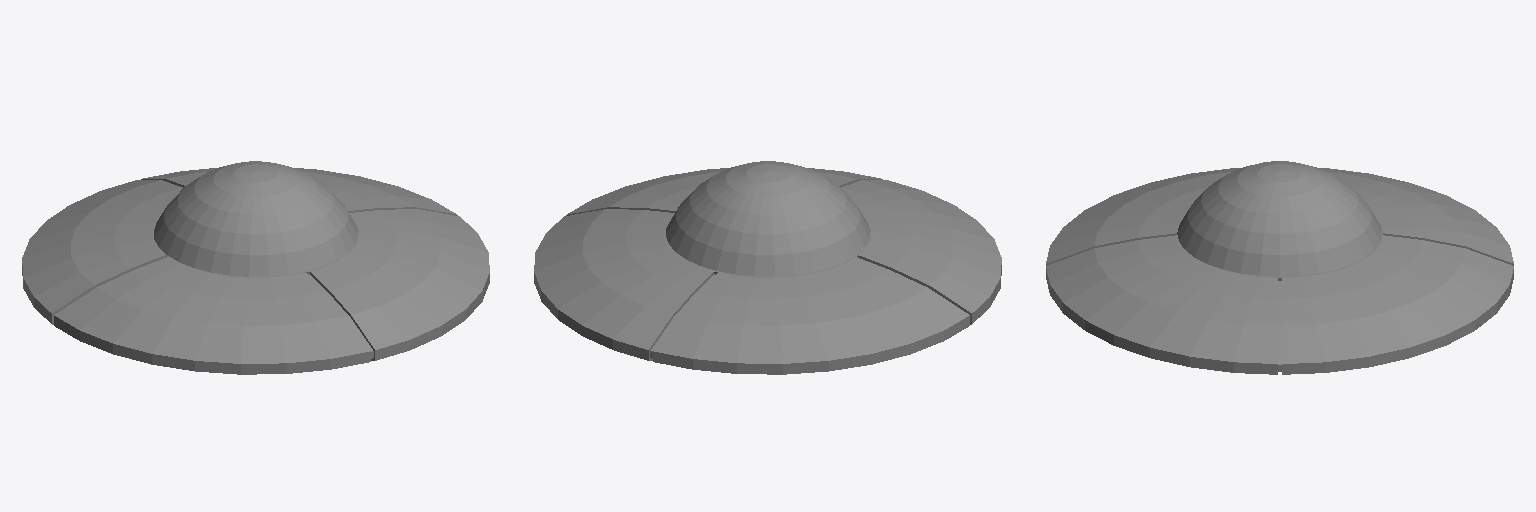
File: Ufo.obj
3 renders of one model, left to right at view 1: azimuth 30°, elevation 25°; view 2: azimuth 150°, elevation 25°; view 3: azimuth 270°, elevation 25°, orthographic.
Parts seen in each view (by area): view 1: UFO_body, UFO_cockpit; view 2: UFO_body, UFO_cockpit; view 3: UFO_body, UFO_cockpit.
Part boxes in pixels (left/top/right/bottom): UFO_body: left=22, top=167, right=489, bottom=374; UFO_cockpit: left=154, top=161, right=357, bottom=276; UFO_body: left=534, top=168, right=1001, bottom=374; UFO_cockpit: left=666, top=161, right=870, bottom=276; UFO_body: left=1046, top=168, right=1513, bottom=374; UFO_cockpit: left=1177, top=161, right=1381, bottom=276.
Bounding box in the file's own units: 67.87 × 27.04 × 67.87.